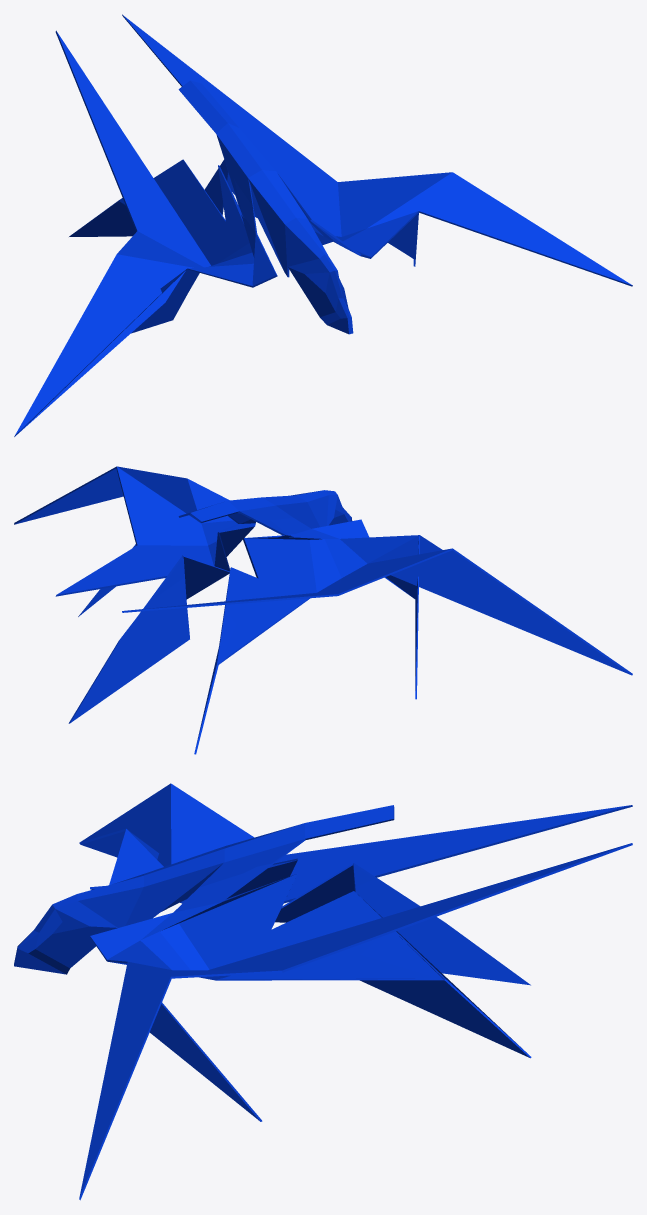
File: CONCEPT 2.fbx
The picture shows the model from 3 angles, top to bottom: view 1: azimuth 30°, elevation 25°; view 2: azimuth 150°, elevation 25°; view 3: azimuth 270°, elevation 25°; orthographic projection. The views are drawn at different scales.
Parts seen in each view (by area): view 1: Plano; view 2: Plano; view 3: Plano.
Boxes of the visible parts, x1,y1,x2,y2 form: Plano: (14, 14, 632, 436); Plano: (14, 466, 632, 754); Plano: (14, 783, 632, 1200).
Bounding box in the file's own units: 7374 × 2128 × 5415.
